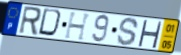9: (90, 14, 110, 44)
D: (37, 7, 65, 39)
H: (63, 11, 93, 42), (136, 19, 163, 50)
R: (17, 5, 43, 38)
S: (116, 16, 140, 47)
